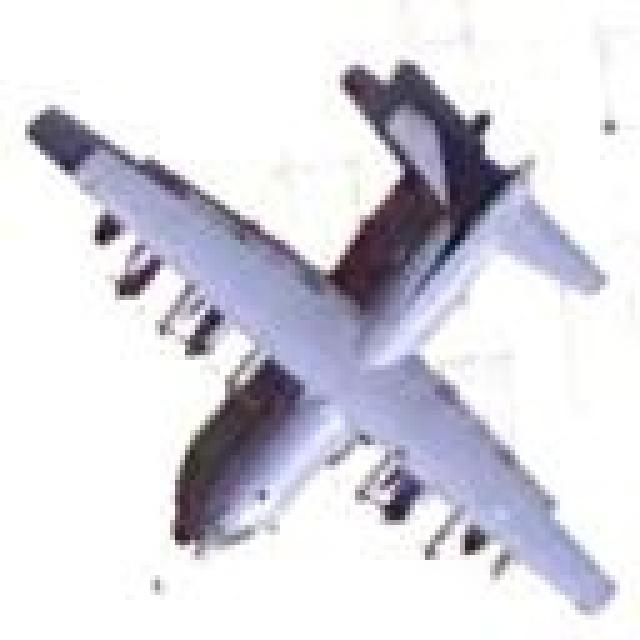C-130_TopDown: (29, 54, 620, 619)
